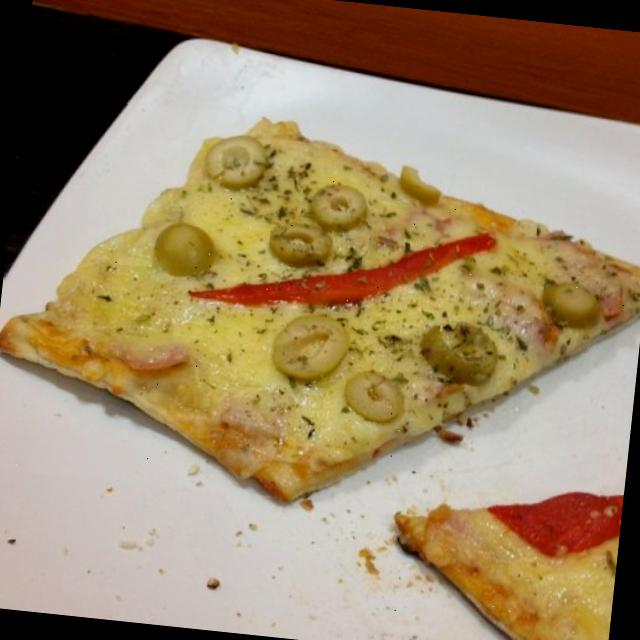Olive: (268, 307, 354, 390), (416, 320, 500, 388), (335, 364, 415, 428), (150, 220, 219, 286), (298, 177, 372, 238), (202, 132, 268, 192), (266, 212, 332, 270), (540, 270, 603, 330), (390, 162, 448, 208)
cheese: (92, 262, 180, 340), (197, 308, 270, 388), (350, 292, 426, 362), (346, 201, 412, 269), (473, 231, 550, 286), (248, 172, 302, 215)
pizza: (0, 118, 640, 500), (394, 493, 623, 640)
